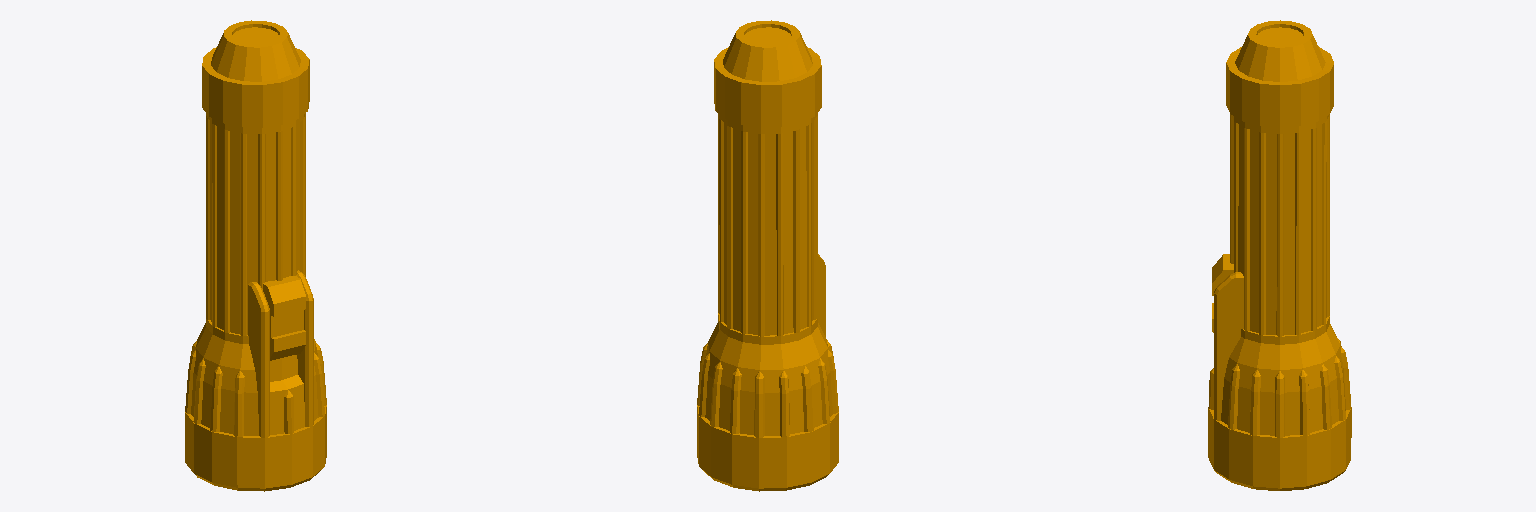
The robot description file, URDF, robot "none":
<robot name="none">
       <link name="none">
           <visual>
               <origin rpy="1.57 0 0" xyz="0 0 0" />
               <geometry>
                   <mesh filename="flashlight.obj" />
               </geometry>
           </visual>
          <collision>
              <geometry>
                  <box size="0.302435 1.000000 0.302435" />
              </geometry>
          </collision>

          <inertial>
            <mass value="0.0" />
            <inertia ixx="0.0" ixy="0.0" ixz="0.0" iyy="0.0" iyz="0.0" izz="0.0" />
          </inertial>
      </link>
  </robot>

--- Render facts (derived) ---
Views: 3 orthographic renders of the robot side by side, from view 1: azimuth 30°, elevation 25°; view 2: azimuth 150°, elevation 25°; view 3: azimuth 270°, elevation 25°.
Model none with 1 links and 0 joints (none), rooted at none, posed all joints at 0.
Links seen in each view (by area): view 1: none; view 2: none; view 3: none.
Link boxes in pixels (left/top/right/bottom): none: left=185, top=20, right=326, bottom=491; none: left=697, top=20, right=838, bottom=491; none: left=1208, top=20, right=1351, bottom=490.
Size in the robot's own frame: 0.3024 by 0.3025 by 1 metres.
1 mesh visuals loaded from 1 distinct referenced files (1 OBJ).